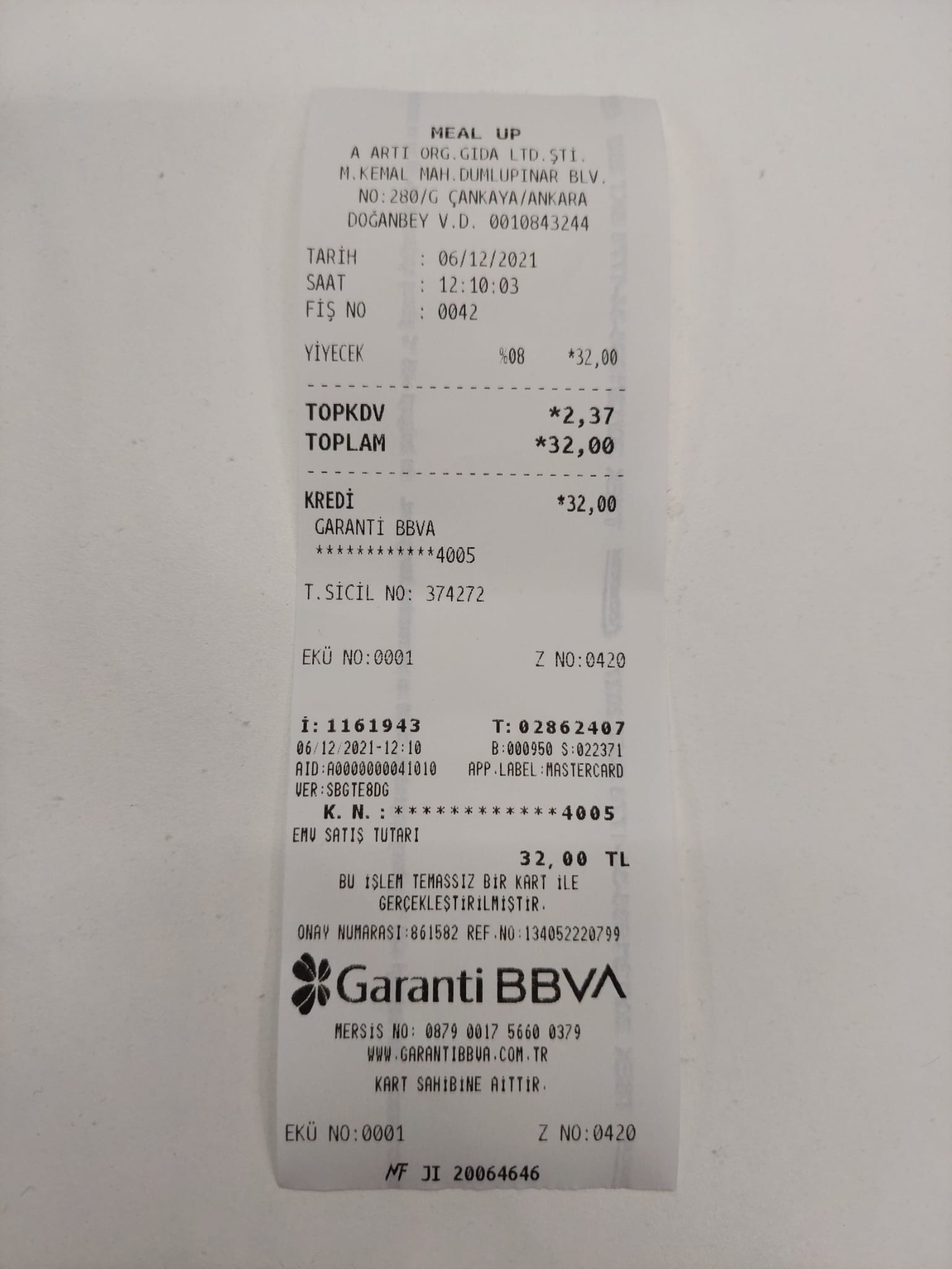date: (432, 244, 543, 274)
price: (547, 427, 621, 467)
workplace: (331, 121, 612, 213)
